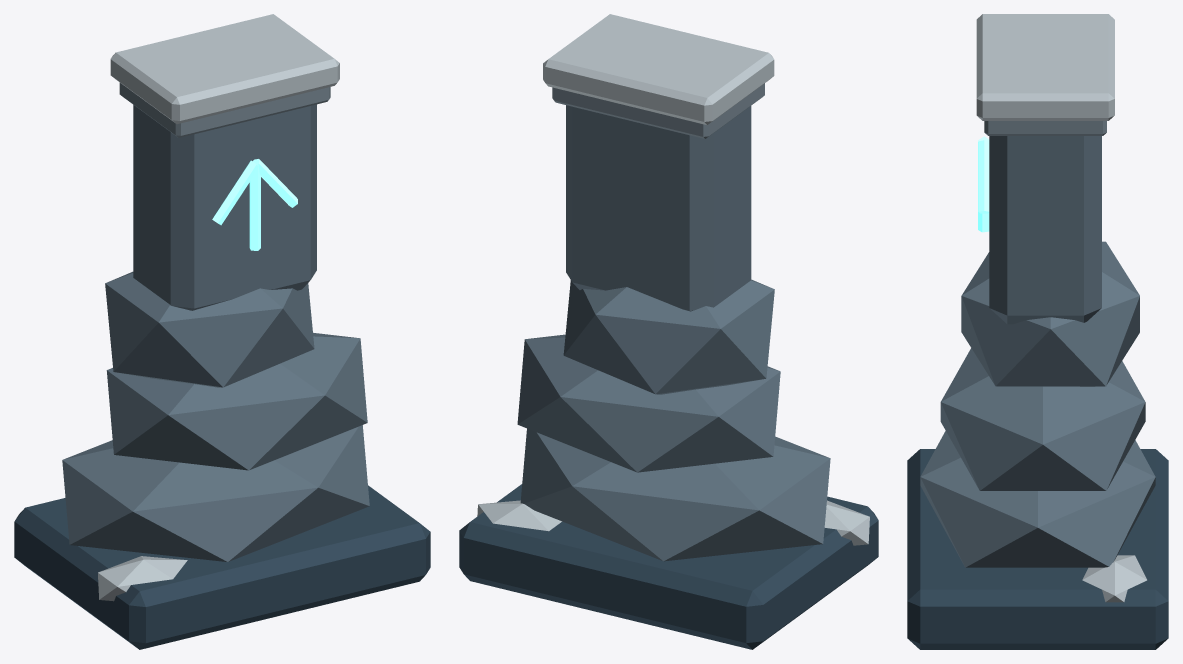
File: wastes_rune_cairn.glb
3 views of the same model, side by side, from view 1: azimuth 30°, elevation 25°; view 2: azimuth 150°, elevation 25°; view 3: azimuth 270°, elevation 25° (orthographic). The views are drawn at different scales.
Parts seen in each view (by area): view 1: wastes_rune_cairn; view 2: wastes_rune_cairn; view 3: wastes_rune_cairn.
Boxes of the visible parts, x1=… form: wastes_rune_cairn: x1=14, y1=14, x2=430, y2=649; wastes_rune_cairn: x1=459, y1=14, x2=878, y2=649; wastes_rune_cairn: x1=907, y1=14, x2=1168, y2=649.
Bounding box in the file's own units: 0.7257 × 1.14 × 0.51.
